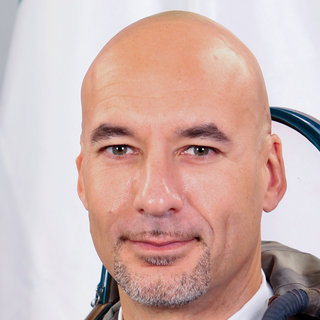eye: (176, 139, 226, 163), (94, 139, 140, 163)
